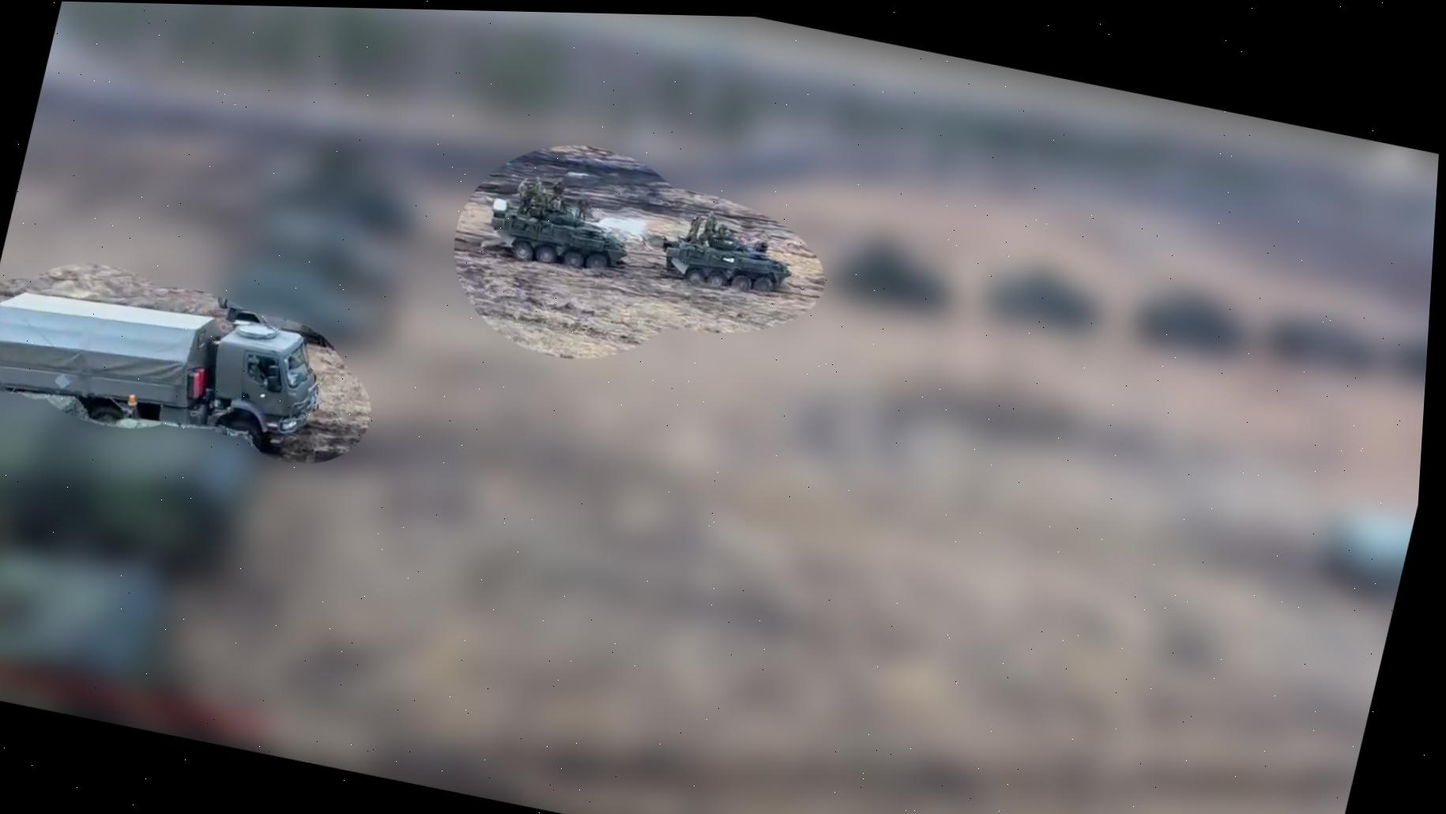armored_car: (473, 170, 640, 282), (651, 201, 803, 304)
truck: (0, 268, 331, 460)
